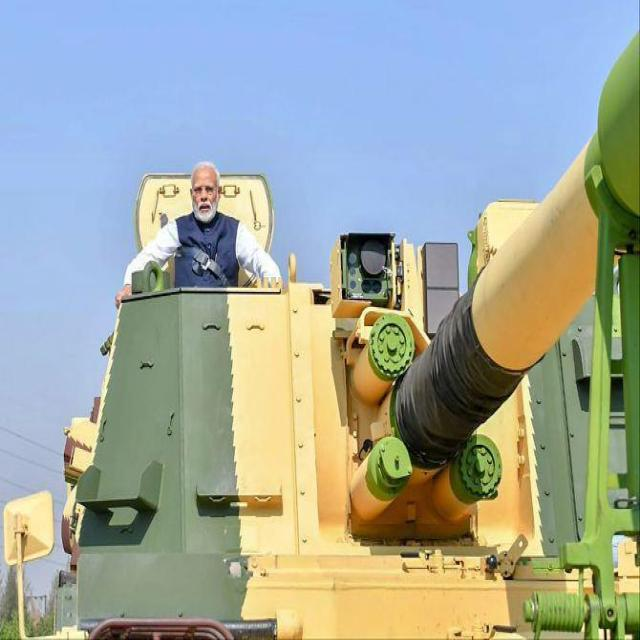Tanks: (23, 173, 624, 620)
